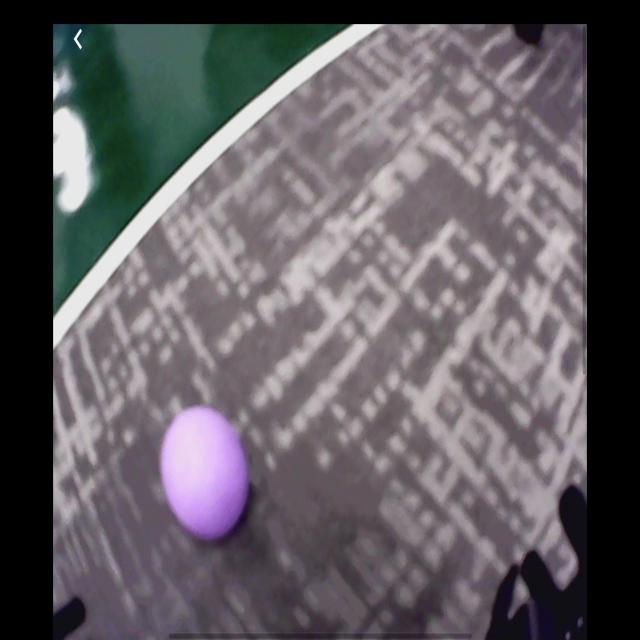ball: (160, 408, 249, 540)
